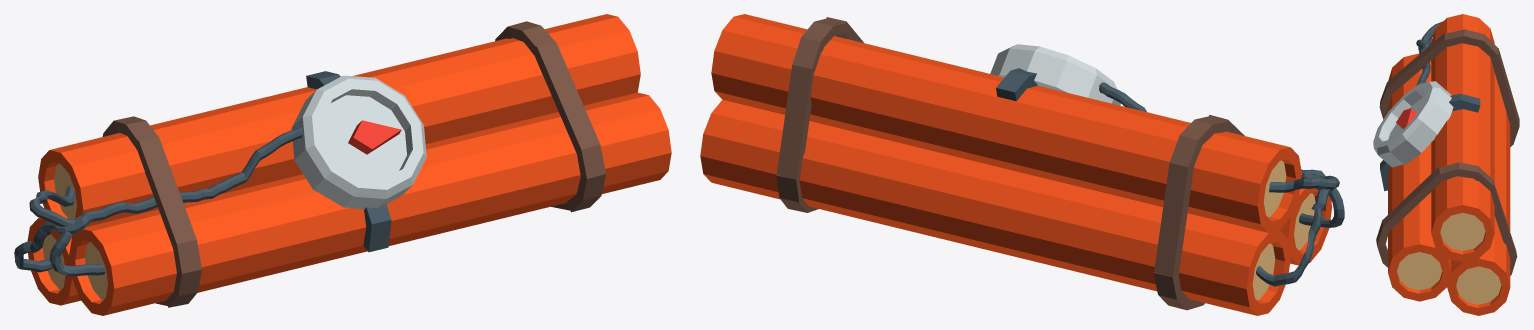
The model's file is dynamite.glb.
3 views of the same model, side by side, from view 1: azimuth 30°, elevation 25°; view 2: azimuth 150°, elevation 25°; view 3: azimuth 270°, elevation 25° (orthographic). The views are drawn at different scales.
Parts seen in each view (by area): view 1: group329809162; view 2: group329809162; view 3: group329809162.
Part boxes in pixels (bbox=[...]): group329809162: bbox=[14, 14, 671, 315]; group329809162: bbox=[700, 14, 1344, 315]; group329809162: bbox=[1373, 14, 1519, 315].
Bounding box in the file's own units: 0.6149 × 0.1873 × 0.1851.
